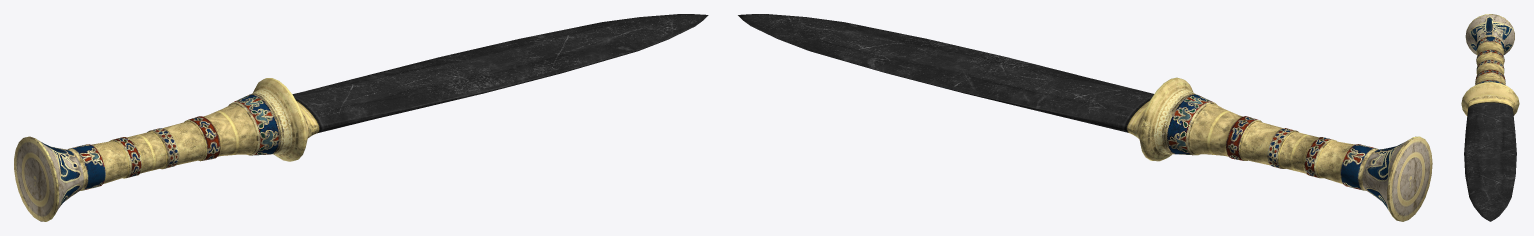
File: Tutankhamuns_Meteoric_Dagger.fbx
The picture shows the model from 3 angles, left to right: view 1: azimuth 30°, elevation 25°; view 2: azimuth 150°, elevation 25°; view 3: azimuth 270°, elevation 25°; orthographic projection. The views are drawn at different scales.
Parts seen in each view (by area): view 1: Tutankhamuns_Meteoric_Dagger_LOD0; view 2: Tutankhamuns_Meteoric_Dagger_LOD0; view 3: Tutankhamuns_Meteoric_Dagger_LOD0.
Part boxes in pixels (bbox=[...]): Tutankhamuns_Meteoric_Dagger_LOD0: bbox=[14, 14, 708, 221]; Tutankhamuns_Meteoric_Dagger_LOD0: bbox=[738, 14, 1432, 221]; Tutankhamuns_Meteoric_Dagger_LOD0: bbox=[1461, 14, 1519, 221].
Size of what is drawn, in the model's own units: 2 by 0.2242 by 0.2646.
Materials: 1 (1 with a texture image).
